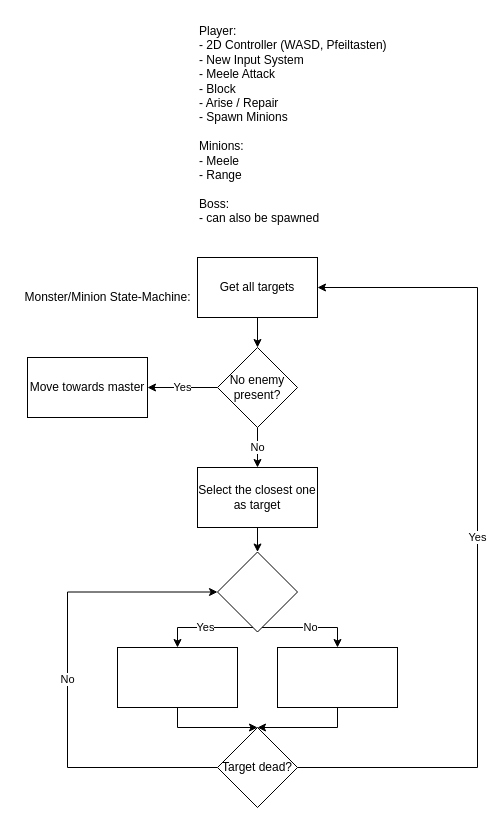
Some shapes in this 503 by 825 pixel diagram are drawn without their labels. Here are the shapes that lost their labels. From the top down, the centre of each, then its label:
At point 257,591: "Target in Range?".
At point 177,677: "Attack target".
At point 337,677: "Move towards target".
